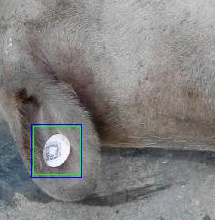text: (33, 126, 80, 174)
